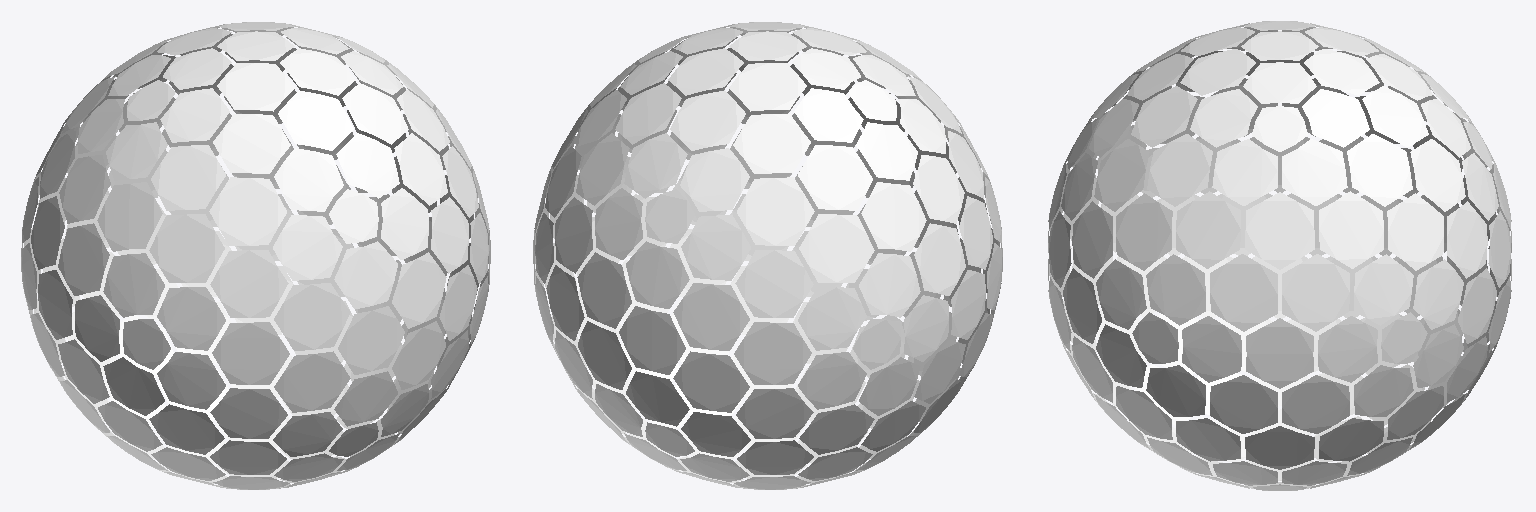
The model's file is hexx0.obj.
3 views of the same model, side by side, from view 1: azimuth 30°, elevation 25°; view 2: azimuth 150°, elevation 25°; view 3: azimuth 270°, elevation 25° (orthographic).
Parts seen in each view (by area): view 1: Subdivision_Surface; view 2: Subdivision_Surface; view 3: Subdivision_Surface.
Boxes of the visible parts, box(x1,y1,x2,y2) form: Subdivision_Surface: box(21, 22, 490, 489); Subdivision_Surface: box(533, 22, 1002, 489); Subdivision_Surface: box(1048, 21, 1511, 490).
Bounding box in the file's own units: 195 × 195 × 195.